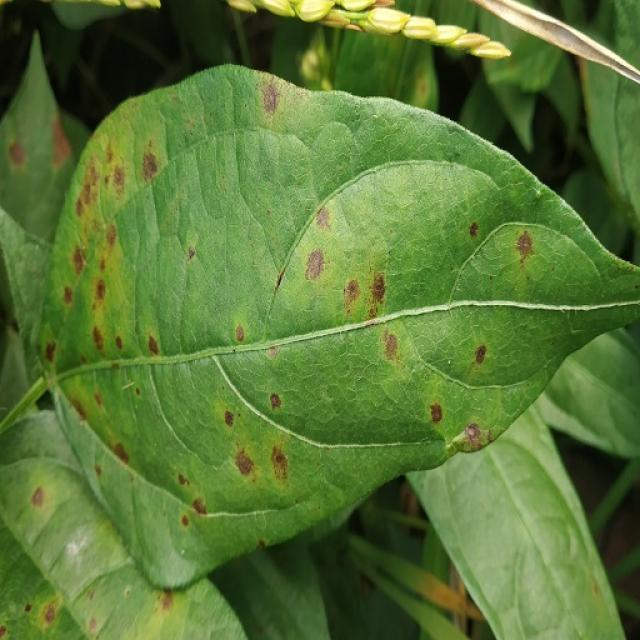Anthracnose: (264, 261, 290, 321), (257, 78, 292, 122), (507, 231, 547, 268), (135, 150, 169, 192), (296, 248, 328, 288), (52, 118, 72, 169), (369, 271, 386, 314), (461, 423, 487, 451), (271, 444, 289, 482), (343, 278, 361, 313), (235, 448, 254, 477), (382, 331, 399, 361), (8, 141, 26, 167), (315, 206, 331, 231), (72, 247, 85, 275), (112, 166, 126, 192), (113, 443, 129, 465), (273, 268, 286, 293), (92, 326, 104, 353), (31, 486, 45, 509), (43, 603, 57, 626), (44, 340, 56, 363), (106, 224, 117, 249), (430, 403, 443, 424), (160, 590, 173, 611), (148, 335, 160, 356), (193, 497, 207, 515), (95, 279, 106, 301), (474, 345, 486, 365), (416, 77, 428, 97), (63, 285, 74, 306), (269, 392, 281, 410), (235, 324, 245, 343), (224, 410, 235, 427), (267, 345, 279, 360), (94, 390, 103, 410), (468, 222, 479, 238), (616, 264, 631, 274), (178, 473, 188, 487), (187, 246, 196, 261), (88, 618, 97, 633), (115, 335, 123, 350), (181, 514, 189, 528), (1, 625, 8, 638), (24, 603, 32, 613), (258, 539, 266, 549), (593, 584, 600, 595), (124, 588, 131, 597), (135, 387, 140, 396), (637, 284, 640, 290)
Blackgram: (39, 66, 639, 588)
